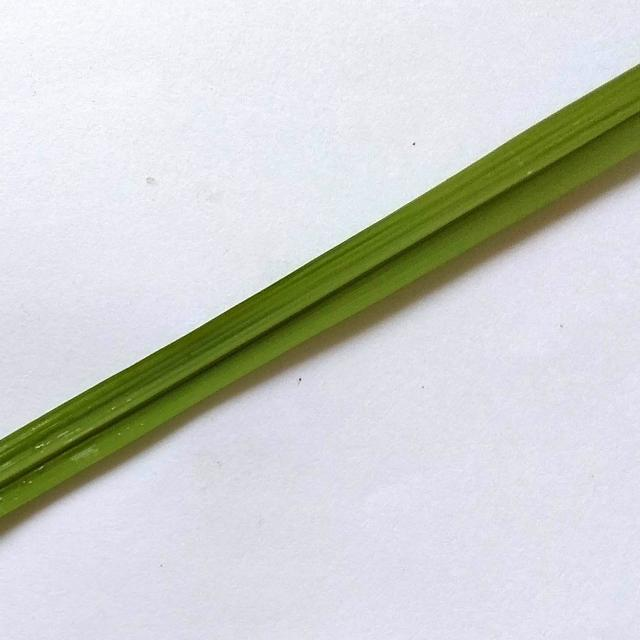Rice_Healthy: (0, 65, 640, 516)
